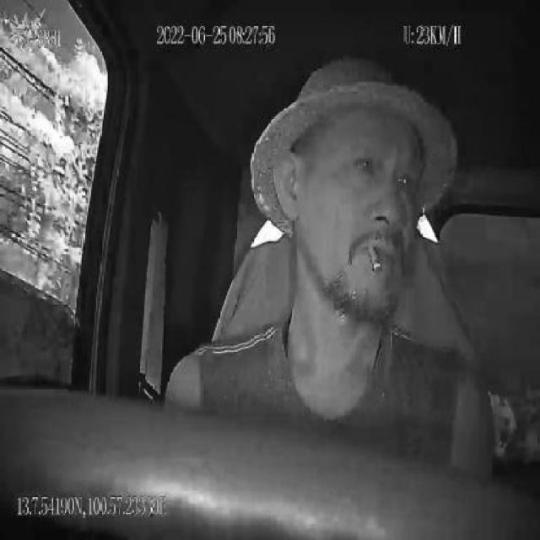smoking: (367, 242, 381, 274)
